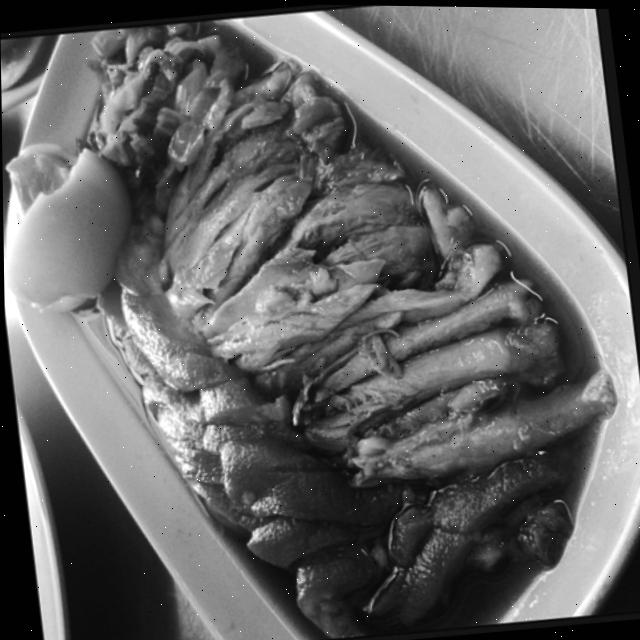猪肉菜式: (14, 24, 636, 640)
